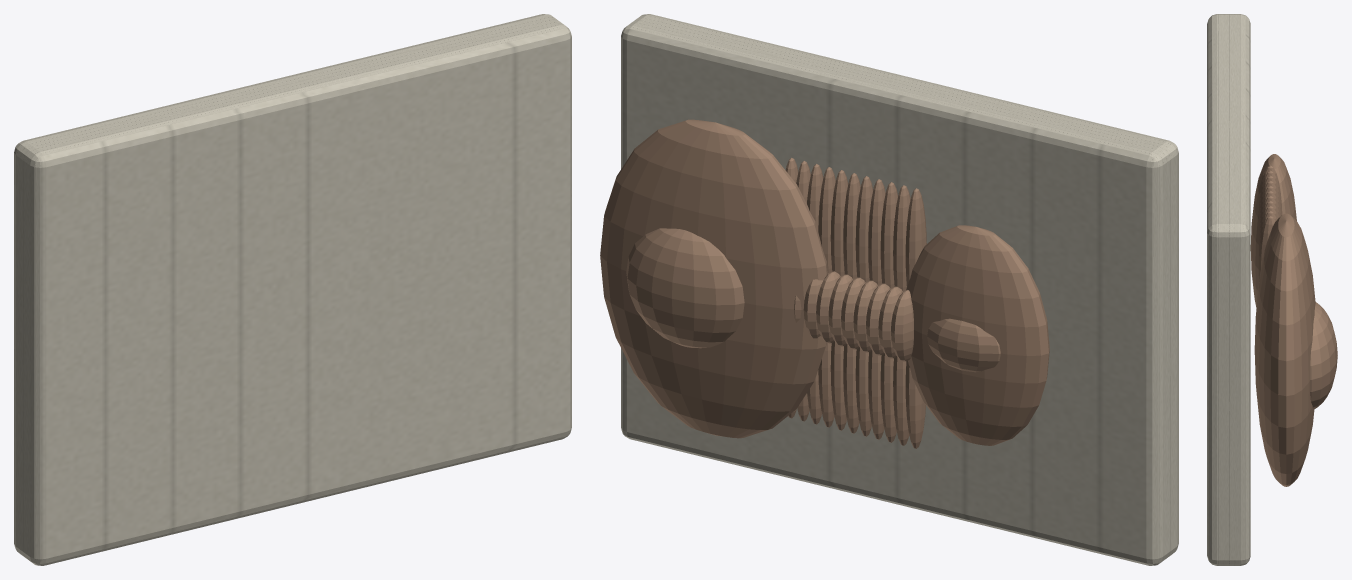
The model's file is trilobite-fossil.glb.
3 renders of one model, left to right at view 1: azimuth 30°, elevation 25°; view 2: azimuth 150°, elevation 25°; view 3: azimuth 270°, elevation 25°, orthographic. The views are drawn at different scales.
Visible parts, largest first — view 1: slab; view 2: slab, cephalon, pygidium, glabella, paxis, pleura101, pleura61, axis10, pleura81, pleura41, pleura71, pleura91 (+17 smaller); view 3: slab, cephalon, glabella, pygidium, pleura01.
Part boxes in pixels (x1=…): slab: x1=14, y1=14, x2=571, y2=565; slab: x1=621, y1=14, x2=1178, y2=565; cephalon: x1=600, y1=119, x2=827, y2=438; pygidium: x1=906, y1=225, x2=1049, y2=445; glabella: x1=626, y1=228, x2=744, y2=348; paxis: x1=927, y1=318, x2=1000, y2=372; pleura101: x1=905, y1=188, x2=926, y2=286; pleura61: x1=855, y1=176, x2=873, y2=282; axis10: x1=891, y1=290, x2=913, y2=361; pleura81: x1=880, y1=182, x2=897, y2=288; pleura41: x1=830, y1=170, x2=848, y2=276; pleura71: x1=868, y1=179, x2=885, y2=285; pleura91: x1=893, y1=185, x2=910, y2=291; slab: x1=1207, y1=14, x2=1250, y2=565; cephalon: x1=1254, y1=213, x2=1315, y2=486; glabella: x1=1310, y1=302, x2=1337, y2=409; pygidium: x1=1250, y1=154, x2=1296, y2=307; pleura01: x1=1258, y1=216, x2=1275, y2=281.
Bounding box in the file's own units: 2.6 × 1.9 × 0.66.
Materials: 2 (1 with a texture image).
